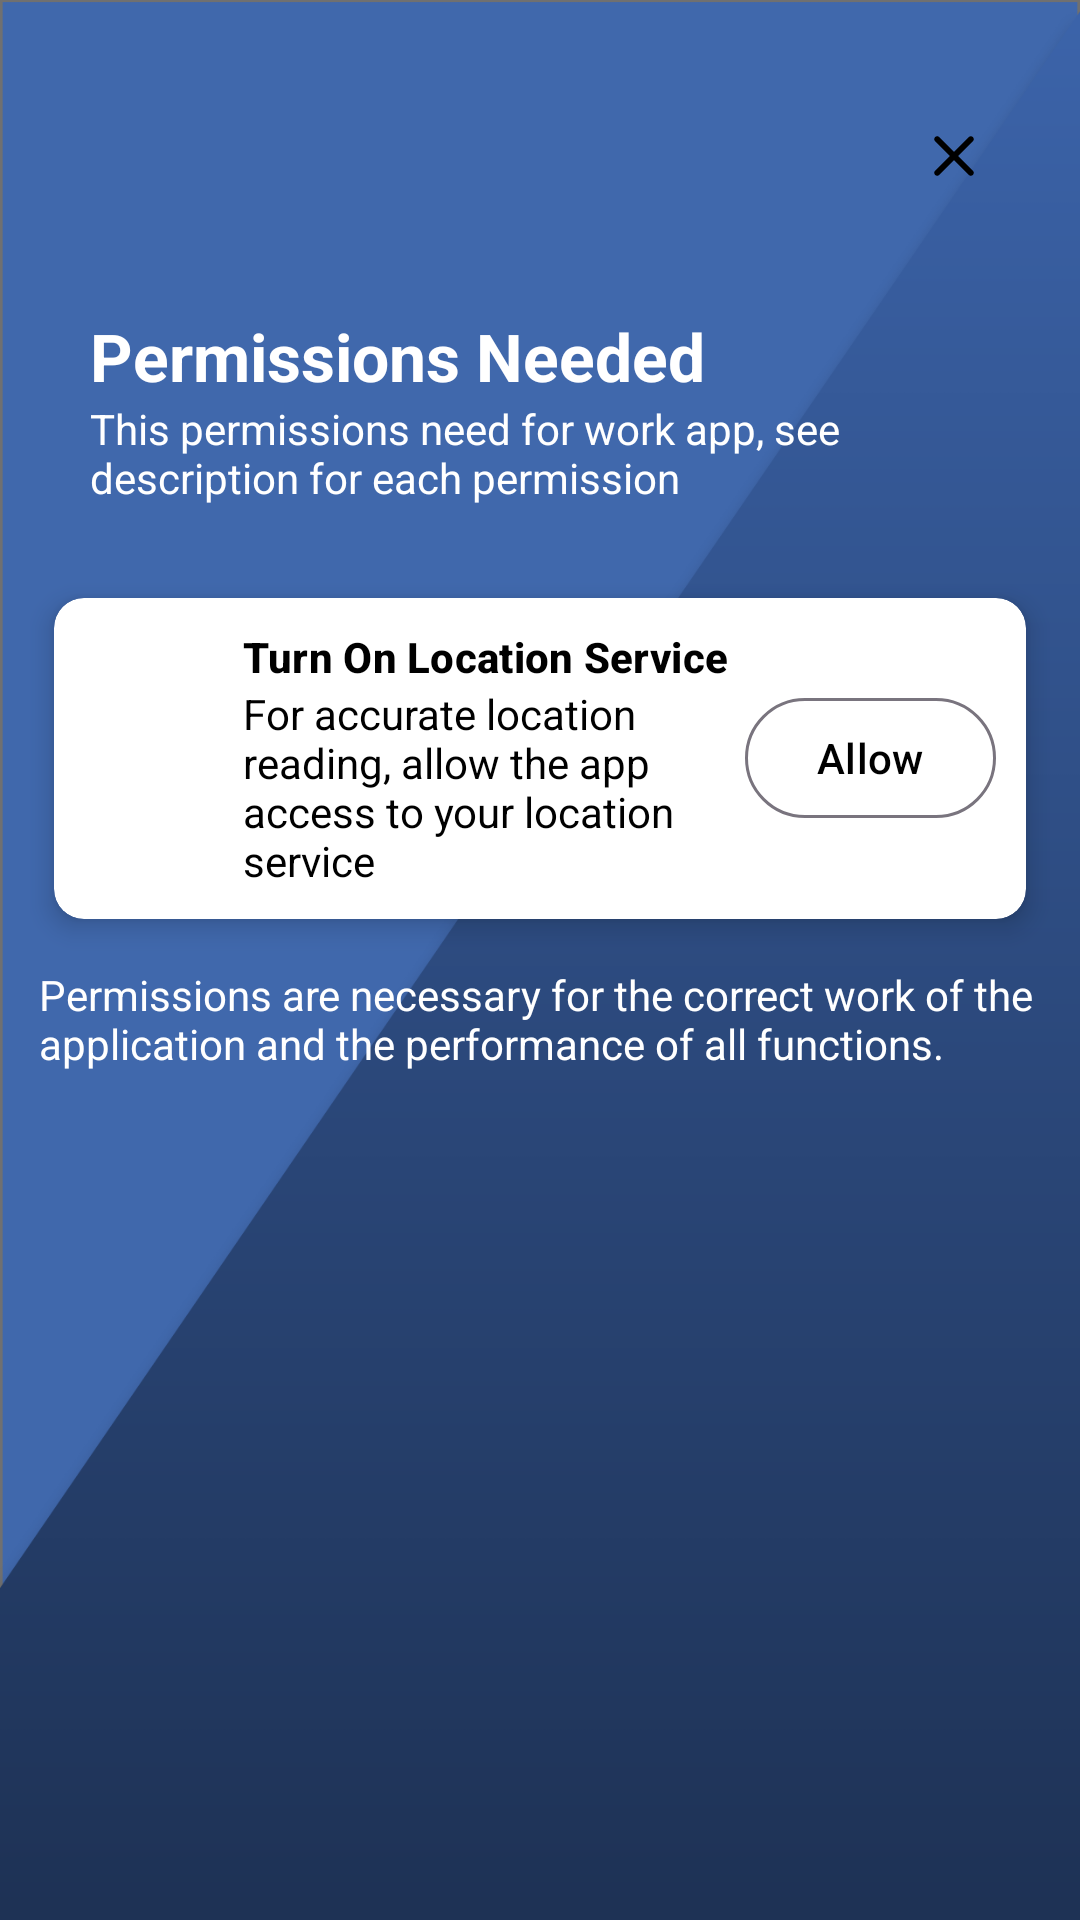

Screen size 1080px×1920px. Icon name, then its box in pixels as (x1, y1, x2, y2):
close: (934, 136, 974, 176)
